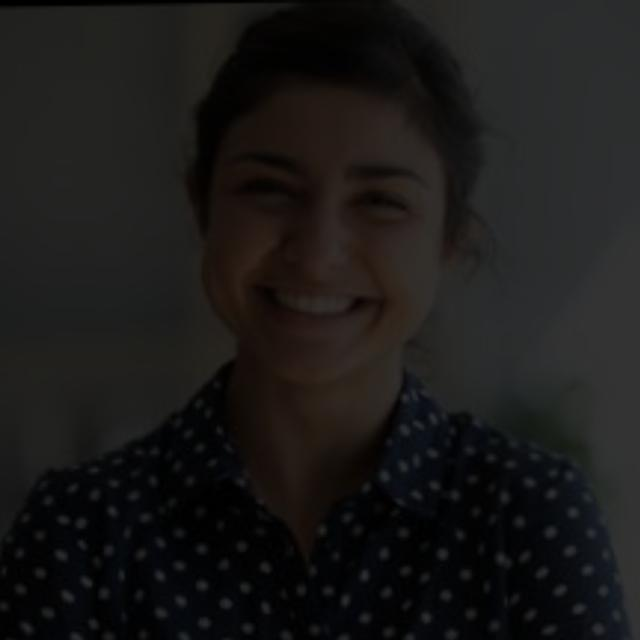Happy: (196, 50, 435, 389)
